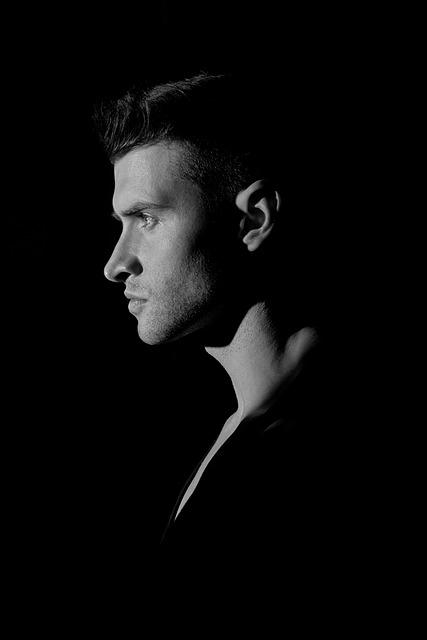Non_Gorille: (70, 92, 392, 628)
